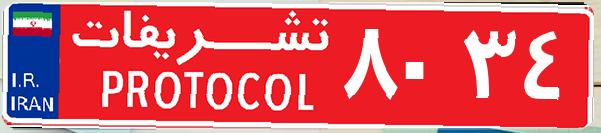0: (400, 20, 460, 115)
3: (460, 20, 520, 115)
4: (520, 20, 580, 115)
8: (340, 20, 400, 115)
تشریفات: (60, 8, 340, 125)
